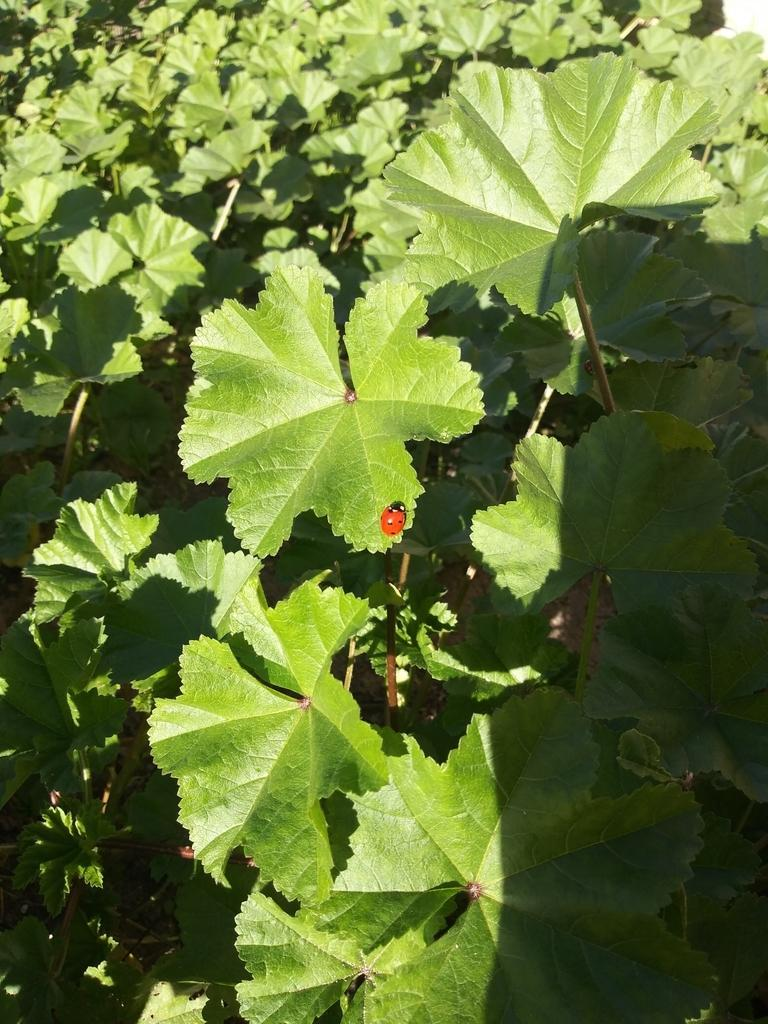ladybug: (382, 500, 408, 538)
